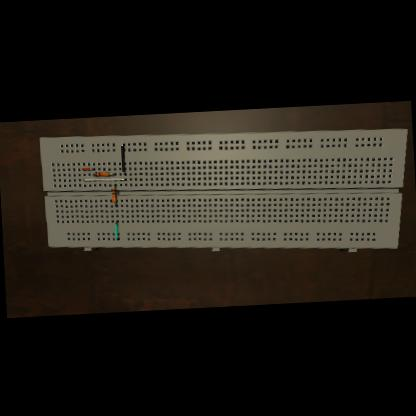breadboard: (38, 116, 412, 266)
resistor: (110, 187, 116, 201), (94, 170, 108, 176)
wire: (82, 176, 125, 181), (120, 142, 124, 173), (114, 220, 118, 238), (80, 166, 93, 169), (108, 172, 114, 174), (113, 202, 116, 204), (112, 184, 115, 186), (91, 172, 93, 174)
